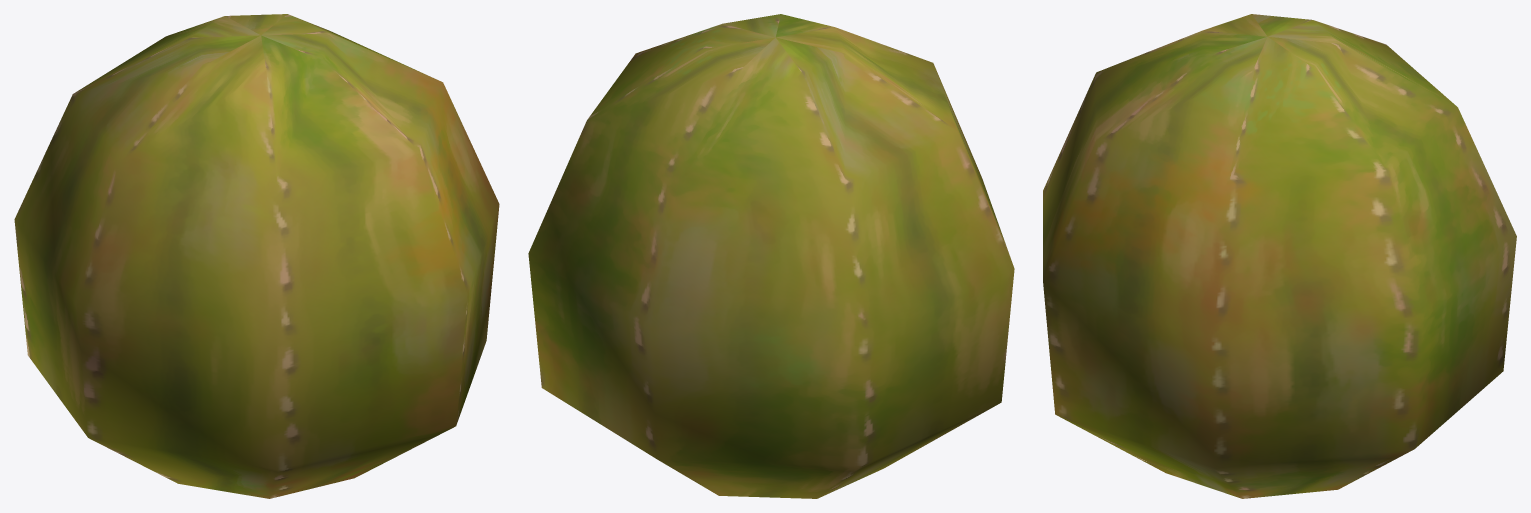
Rendered from SM_CactusBulb01.fbx.
3 views of the same model, side by side, from view 1: azimuth 30°, elevation 25°; view 2: azimuth 150°, elevation 25°; view 3: azimuth 270°, elevation 25° (orthographic).
Parts seen in each view (by area): view 1: SM_CactusBulb01; view 2: SM_CactusBulb01; view 3: SM_CactusBulb01.
Boxes of the visible parts, box(x1,y1,x2,y2) form: SM_CactusBulb01: box(14, 14, 499, 498); SM_CactusBulb01: box(528, 14, 1014, 498); SM_CactusBulb01: box(1043, 14, 1516, 498).
Size of the model in its own units: 65.74 by 63.61 by 64.1.
